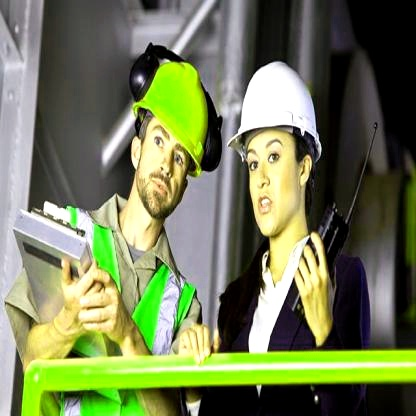vest: (68, 204, 200, 414)
white: (226, 52, 338, 174)
yellow: (130, 52, 218, 180)
